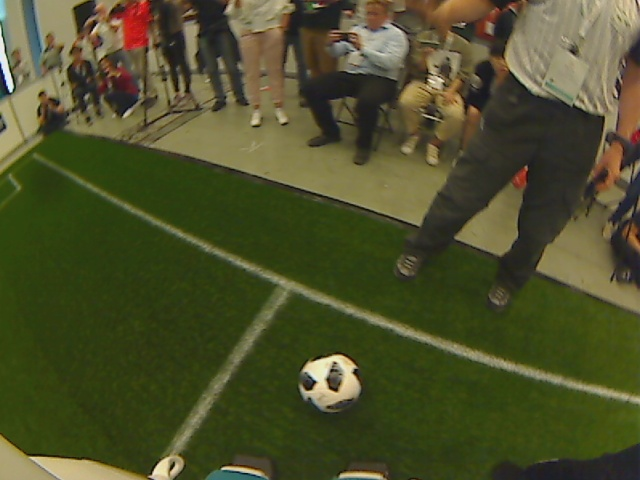ball: (295, 351, 363, 417)
